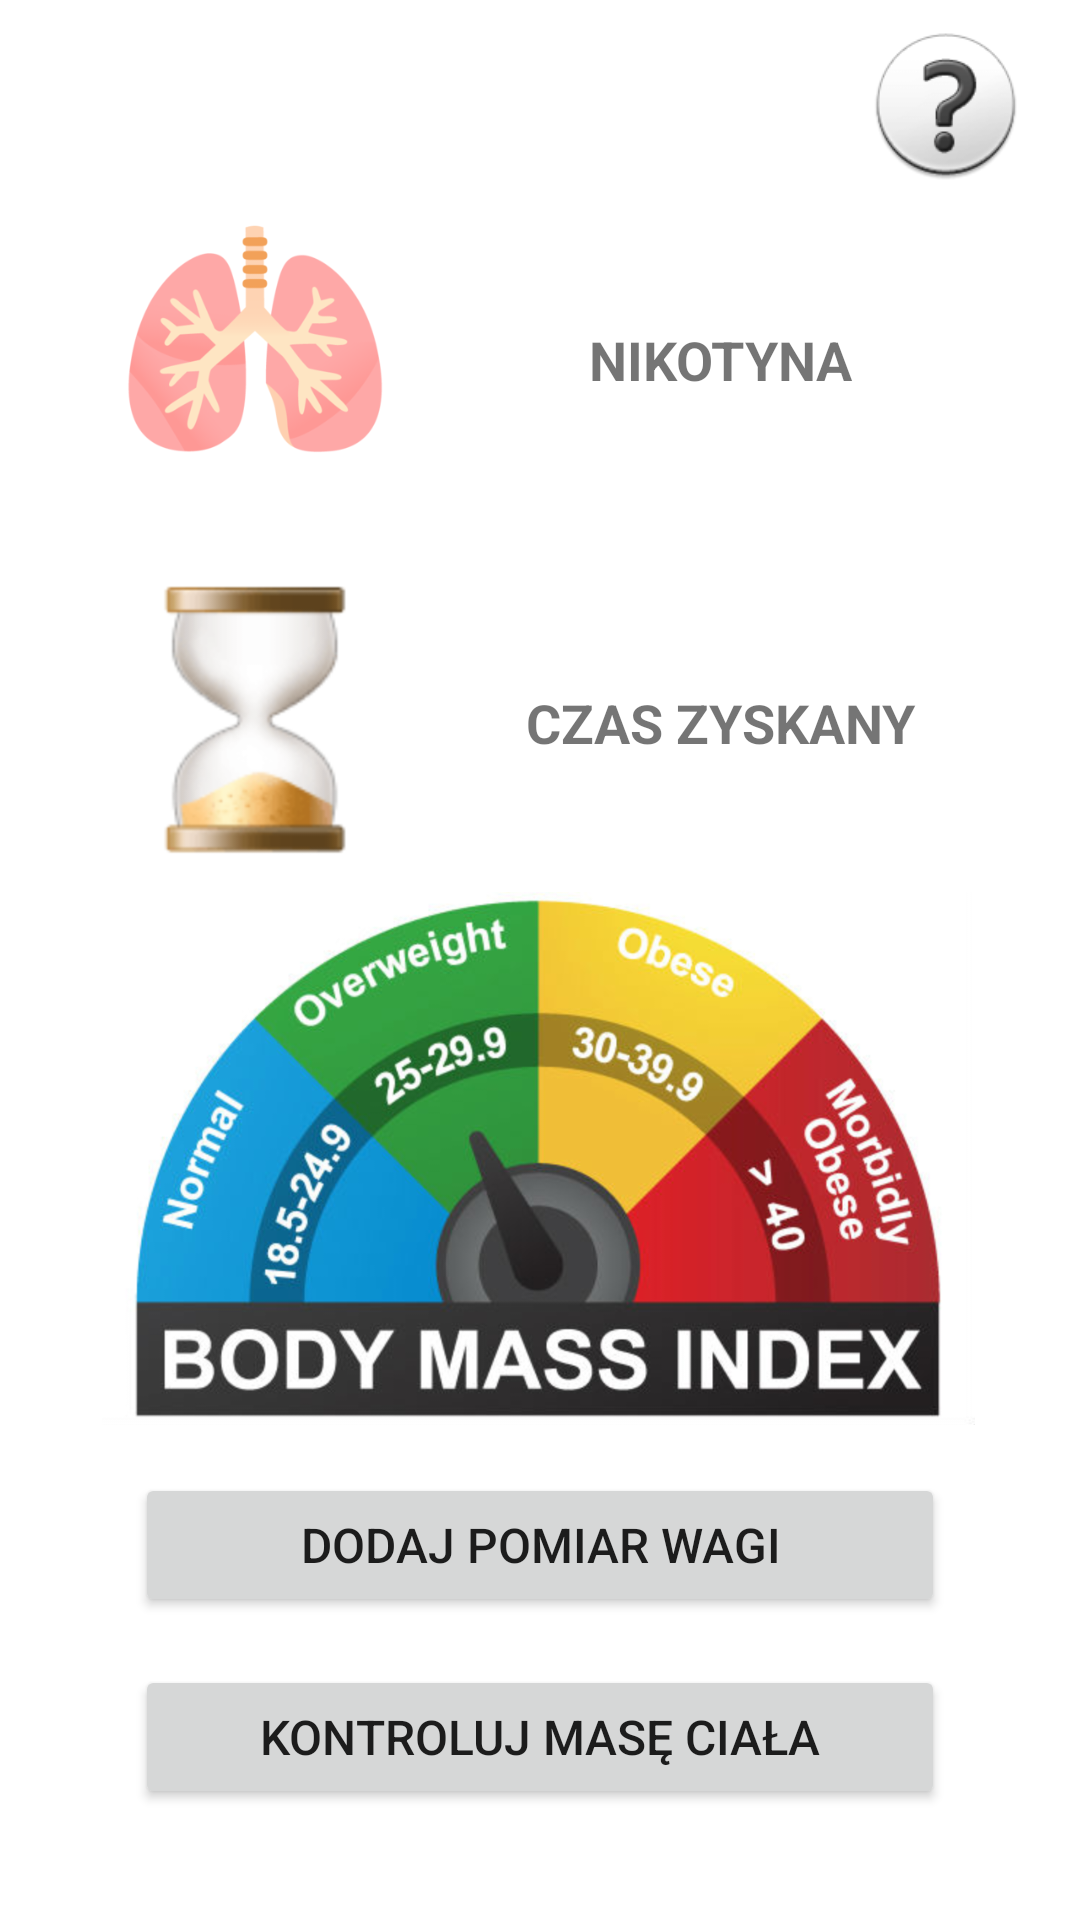

Screen size 1080px x 1920px. Icon name, then its center in pixels as [x,y]:
clock: [255,719]
lungs: [255,339]
questionmark: [946,105]
